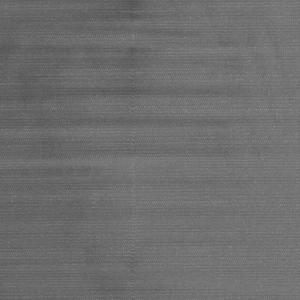Wrinkle: (1, 79, 300, 172)
